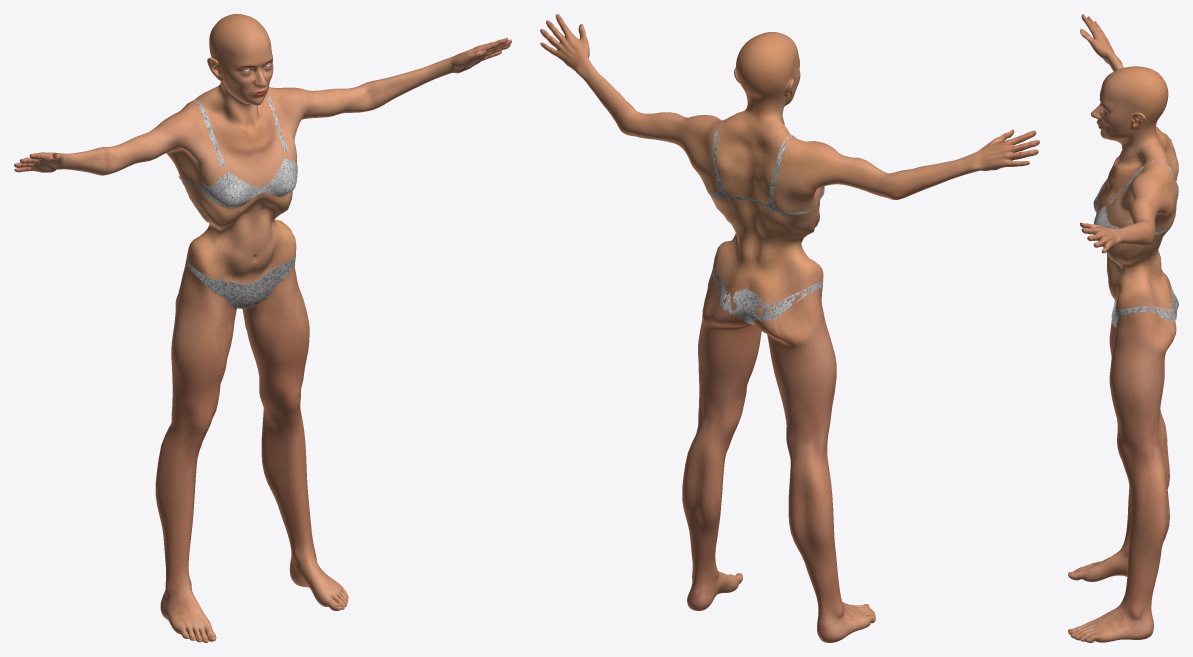
The picture shows the model from 3 angles, left to right: view 1: azimuth 30°, elevation 25°; view 2: azimuth 150°, elevation 25°; view 3: azimuth 270°, elevation 25°; orthographic projection. The views are drawn at different scales.
Parts seen in each view (by area): view 1: cm_antonia, bra, panties; view 2: cm_antonia, panties, bra; view 3: cm_antonia, panties, bra.
Boxes of the visible parts, x1=… form: cm_antonia: x1=14, y1=14, x2=511, y2=642; bra: x1=178, y1=95, x2=297, y2=207; panties: x1=185, y1=253, x2=295, y2=308; cm_antonia: x1=540, y1=14, x2=1039, y2=642; panties: x1=712, y1=267, x2=823, y2=324; bra: x1=707, y1=122, x2=824, y2=214; cm_antonia: x1=1068, y1=14, x2=1178, y2=642; panties: x1=1111, y1=288, x2=1178, y2=327; bra: x1=1093, y1=134, x2=1178, y2=234.
Bounding box in the file's own units: 1.55 × 1.74 × 0.3248.
Materials: 12 (9 with a texture image).
